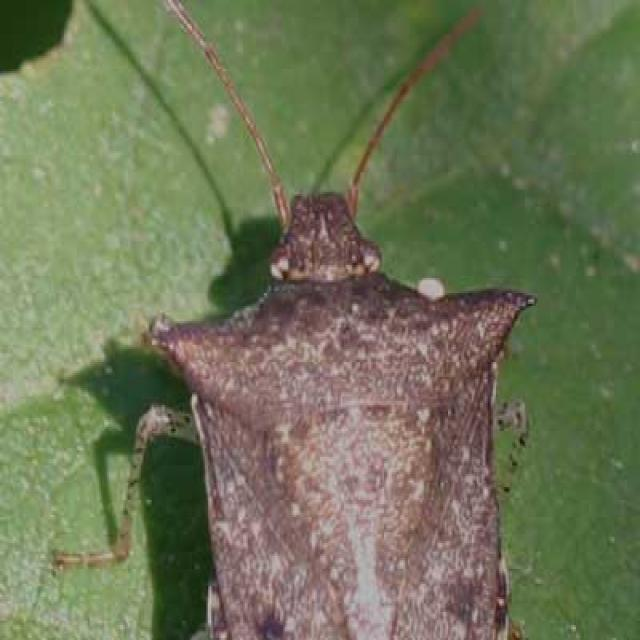stink_bug: (95, 15, 564, 640)
